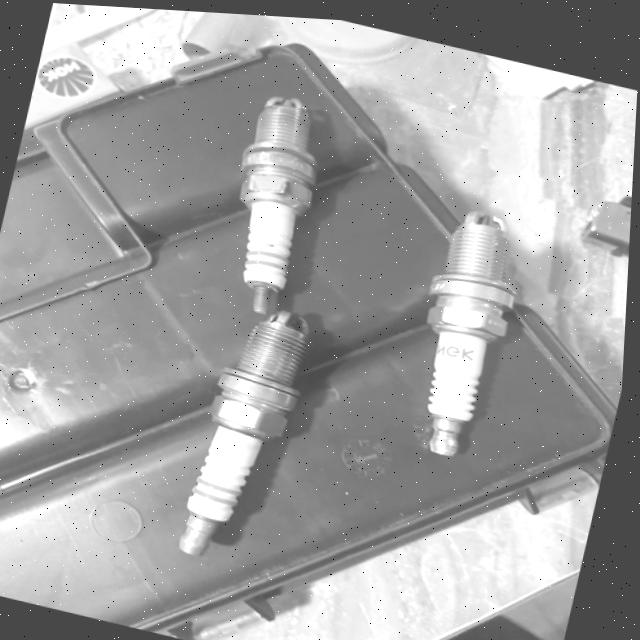spark-plug: (159, 277, 330, 562), (387, 183, 540, 462), (201, 62, 344, 330)
